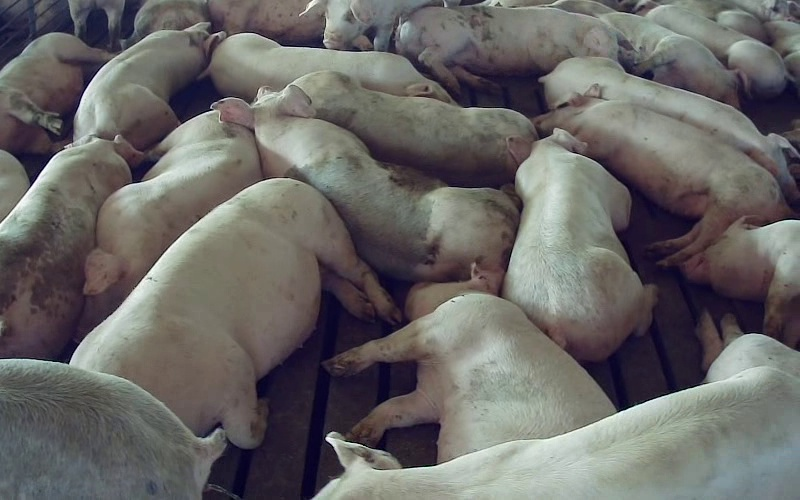pig: (71, 179, 400, 448), (315, 367, 799, 499), (215, 85, 518, 281), (324, 265, 615, 461), (534, 96, 790, 265), (77, 111, 261, 339), (502, 129, 656, 360), (0, 136, 142, 358), (293, 71, 536, 186), (396, 5, 631, 95), (551, 0, 738, 106), (74, 22, 224, 149), (680, 217, 799, 347), (0, 33, 111, 153), (646, 5, 786, 97)
